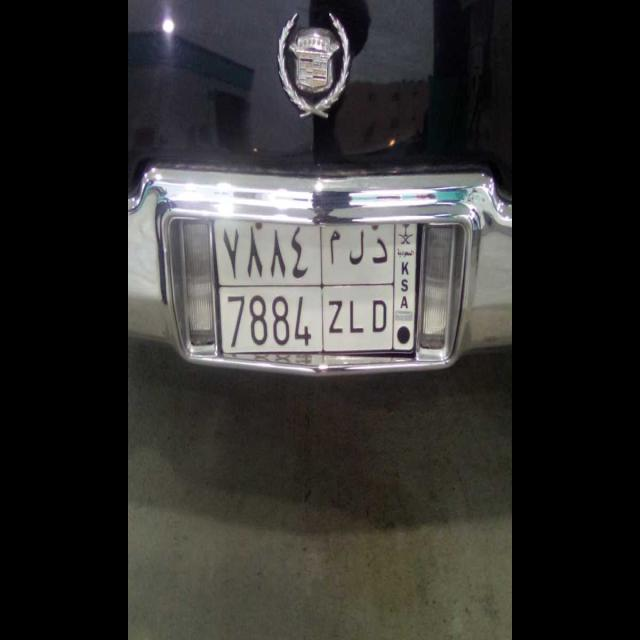license_plate: (214, 282, 395, 348)
